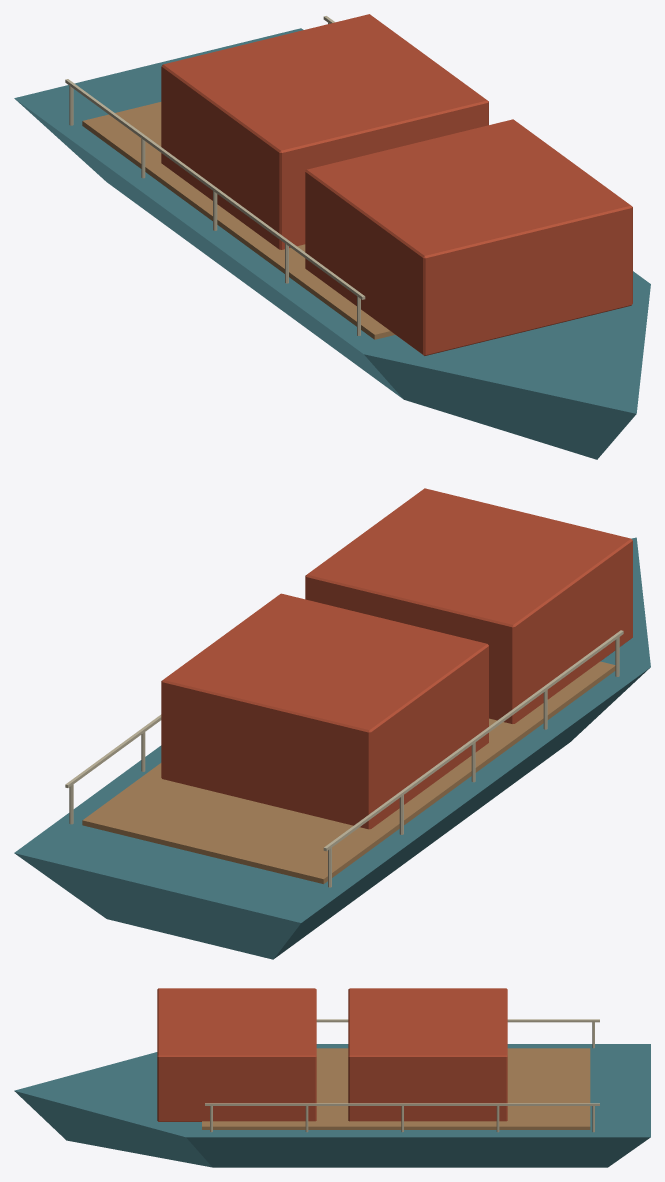
The model's file is vessel_barge.glb.
3 views of the same model, one above another, from view 1: azimuth 30°, elevation 25°; view 2: azimuth 150°, elevation 25°; view 3: azimuth 270°, elevation 25° (orthographic). The views are drawn at different scales.
Parts seen in each view (by area): view 1: vessel_barge; view 2: vessel_barge; view 3: vessel_barge.
Part boxes in pixels (bbox=[...]): vessel_barge: bbox=[14, 14, 650, 459]; vessel_barge: bbox=[14, 488, 650, 959]; vessel_barge: bbox=[14, 988, 650, 1167].
Bounding box in the file's own units: 4.5 × 2.67 × 13.
